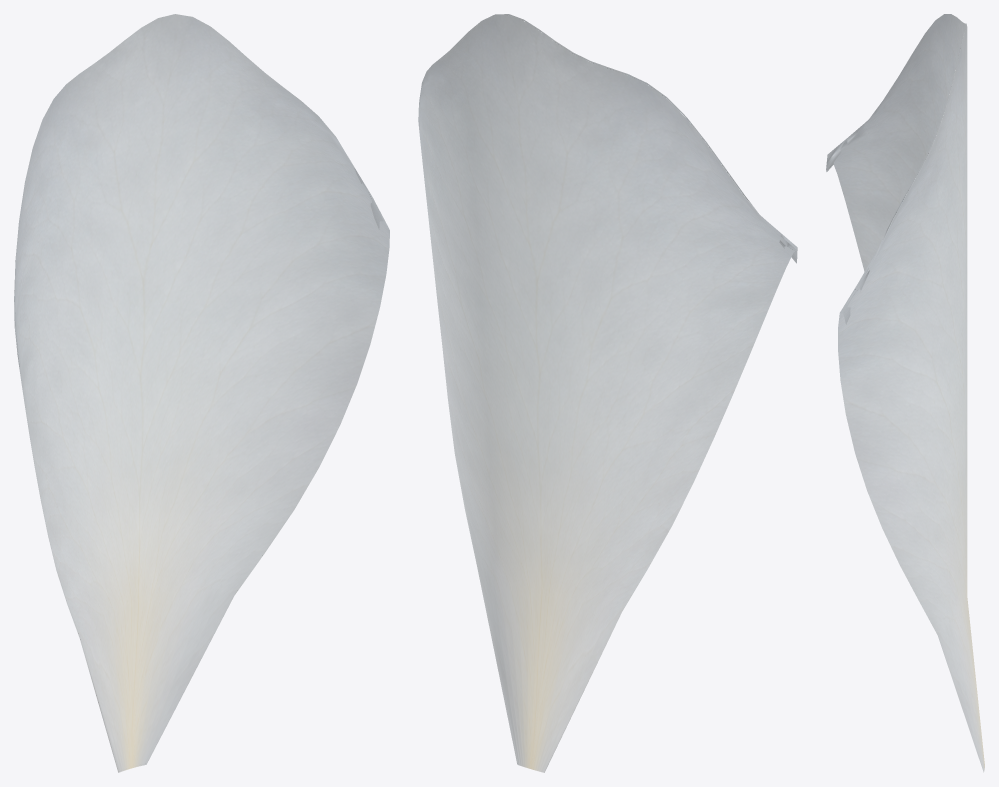
Rendered from inner_03.glb.
3 views of the same model, side by side, from view 1: azimuth 30°, elevation 25°; view 2: azimuth 150°, elevation 25°; view 3: azimuth 270°, elevation 25° (orthographic).
Visible parts, largest first — view 1: inner_03; view 2: inner_03; view 3: inner_03.
Boxes of the visible parts, <box> form: inner_03: <box>14,14,389,772</box>; inner_03: <box>418,14,797,772</box>; inner_03: <box>826,14,984,772</box>.
Bounding box in the file's own units: 0.0355 × 0.0678 × 0.013.
Materials: 1 (1 with a texture image).
